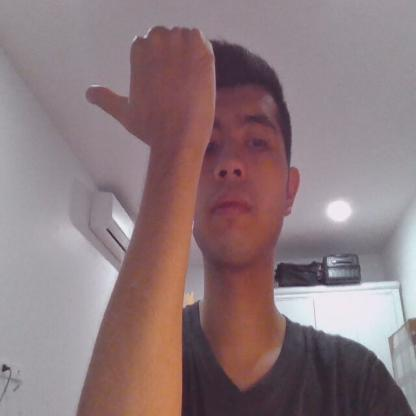right: (85, 23, 218, 149)
